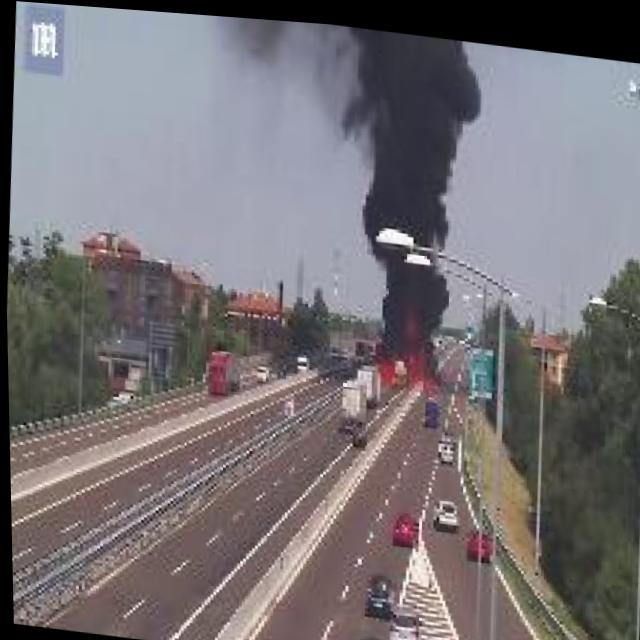fire: (371, 298, 446, 392)
